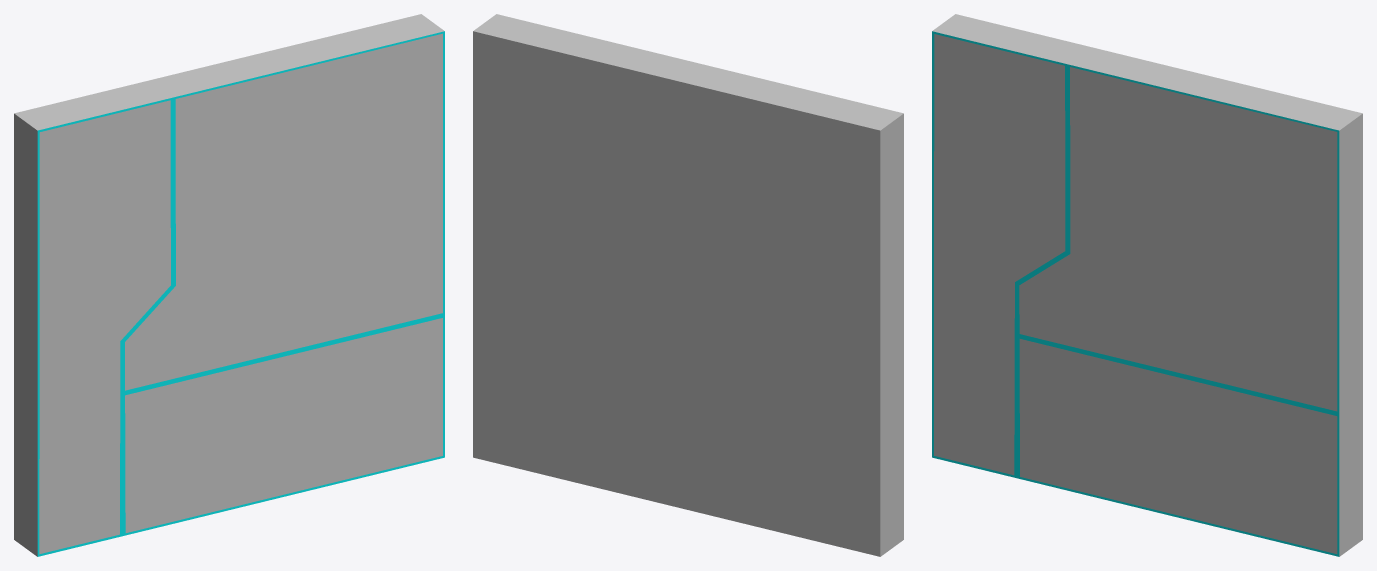
The model's file is Wall_004.fbx.
3 renders of one model, left to right at view 1: azimuth 30°, elevation 25°; view 2: azimuth 150°, elevation 25°; view 3: azimuth 330°, elevation 25°, orthographic.
Parts seen in each view (by area): view 1: Wall_004; view 2: Wall_004; view 3: Wall_004.
Part boxes in pixels (x1,y1,x2,y2): Wall_004: (14, 14, 444, 556); Wall_004: (473, 14, 903, 556); Wall_004: (932, 14, 1362, 556).
Size of the model in its own units: 300 by 300 by 30.
